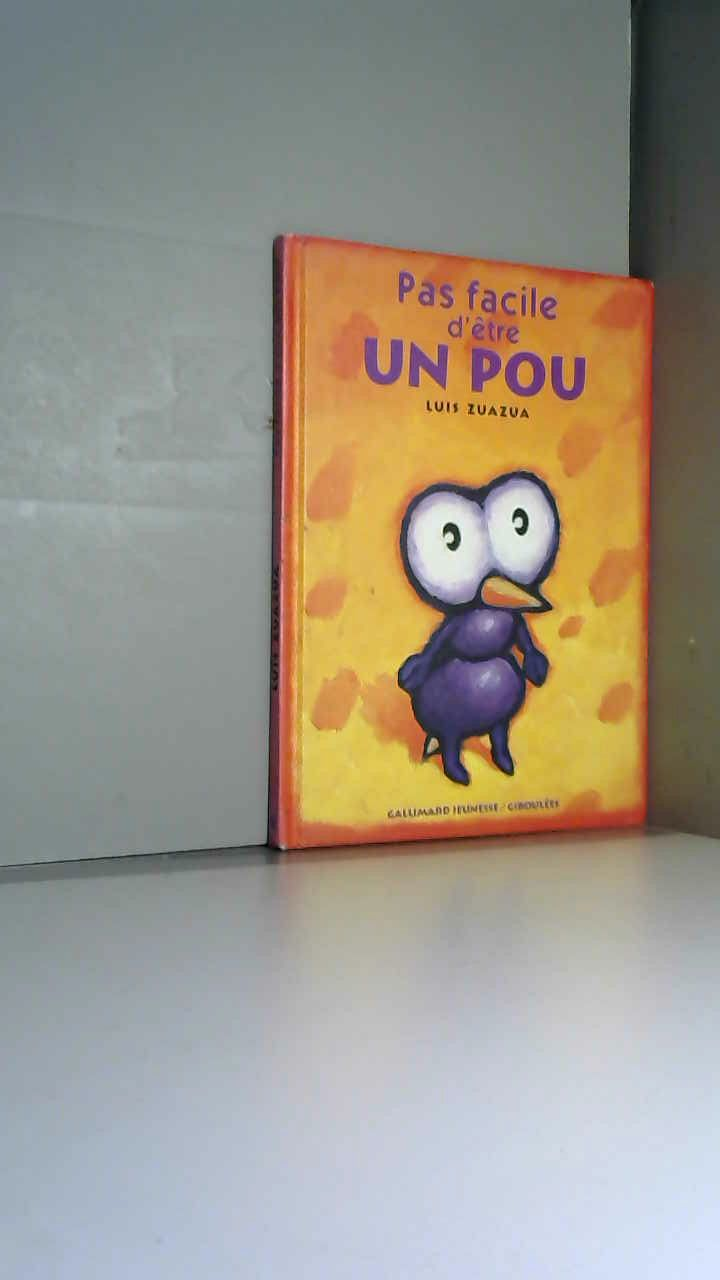book: (240, 210, 720, 910)
